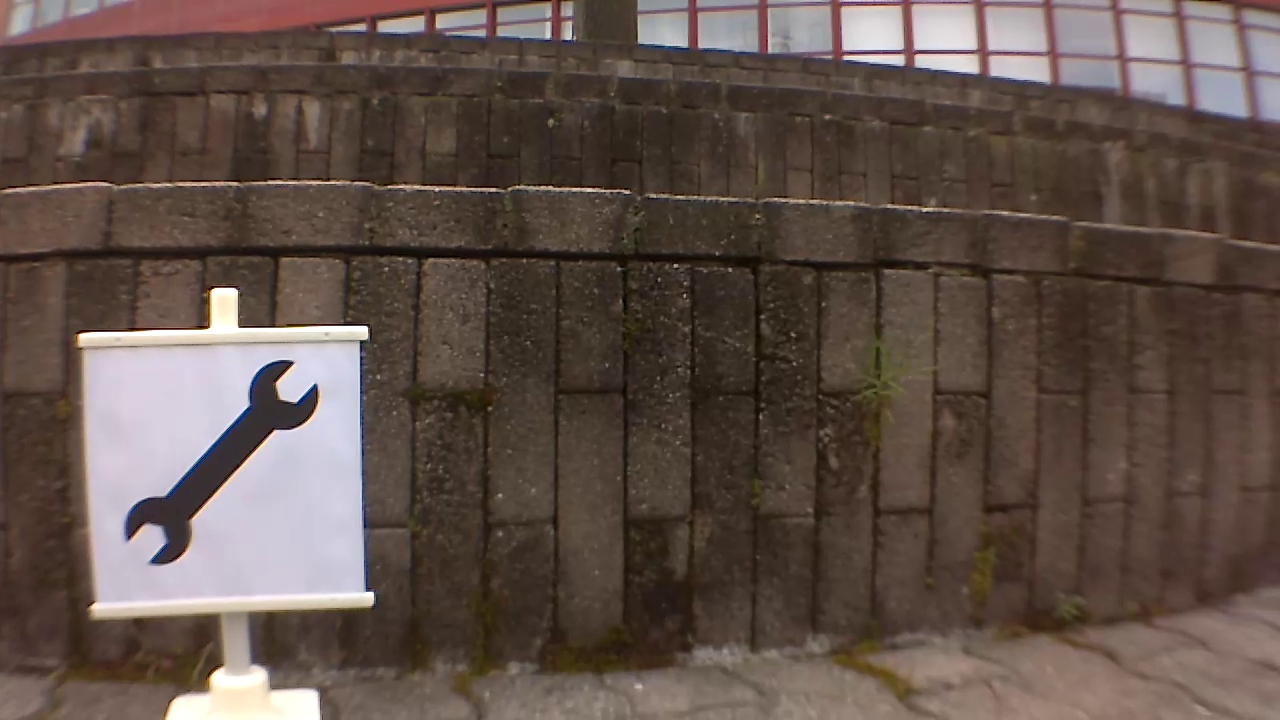wrench: (119, 356, 329, 573)
